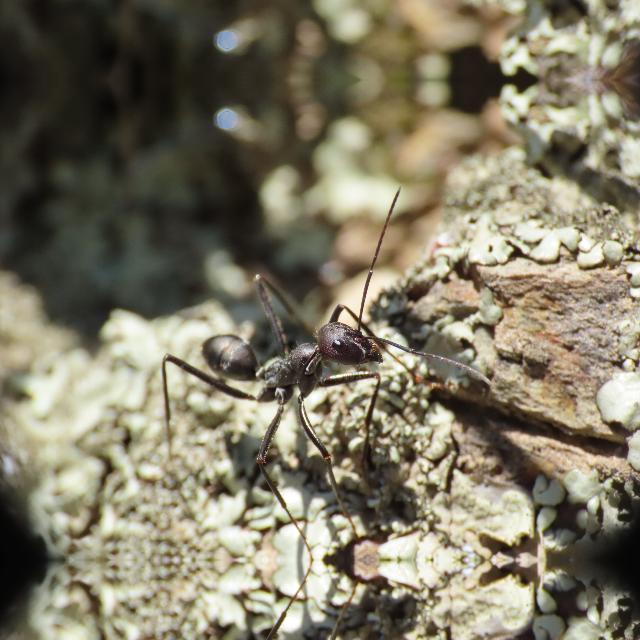Cataglyphis: (170, 296, 416, 428)
